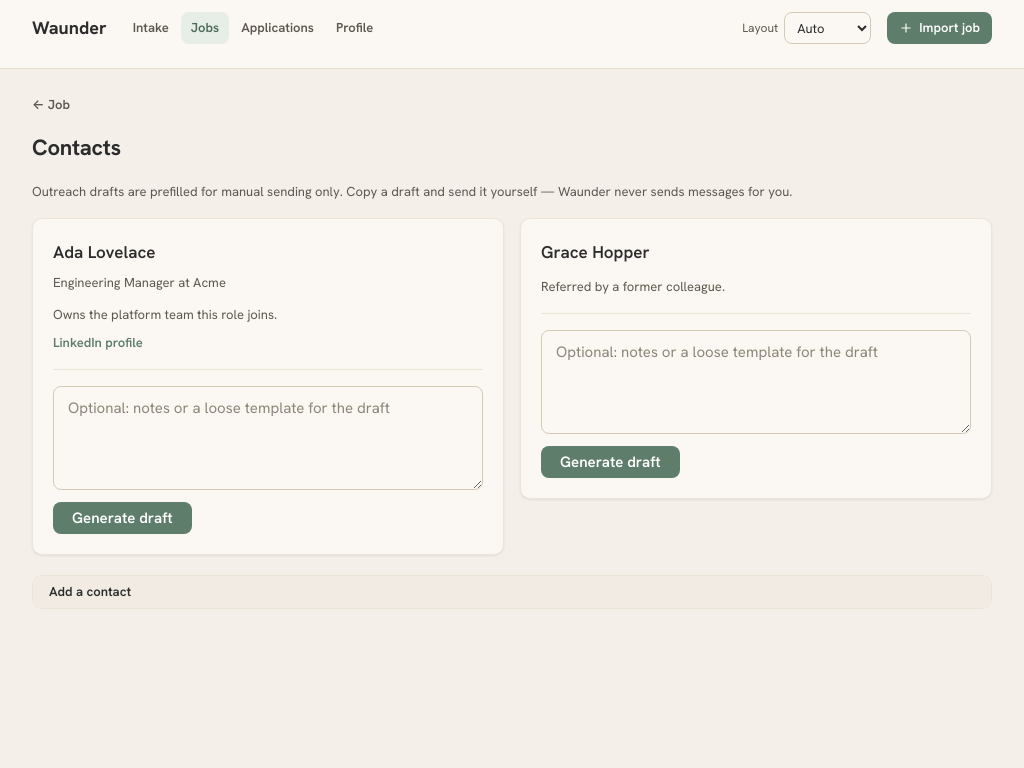
Scenario: outreach generation › reports an expired session as one
Expected: the element with class "contact-create" is shown, [32,575,992,609]
Click the button with class "contact-outreach-generate" below "Ada Lovelace" at [122, 518], box [53,502,192,534]
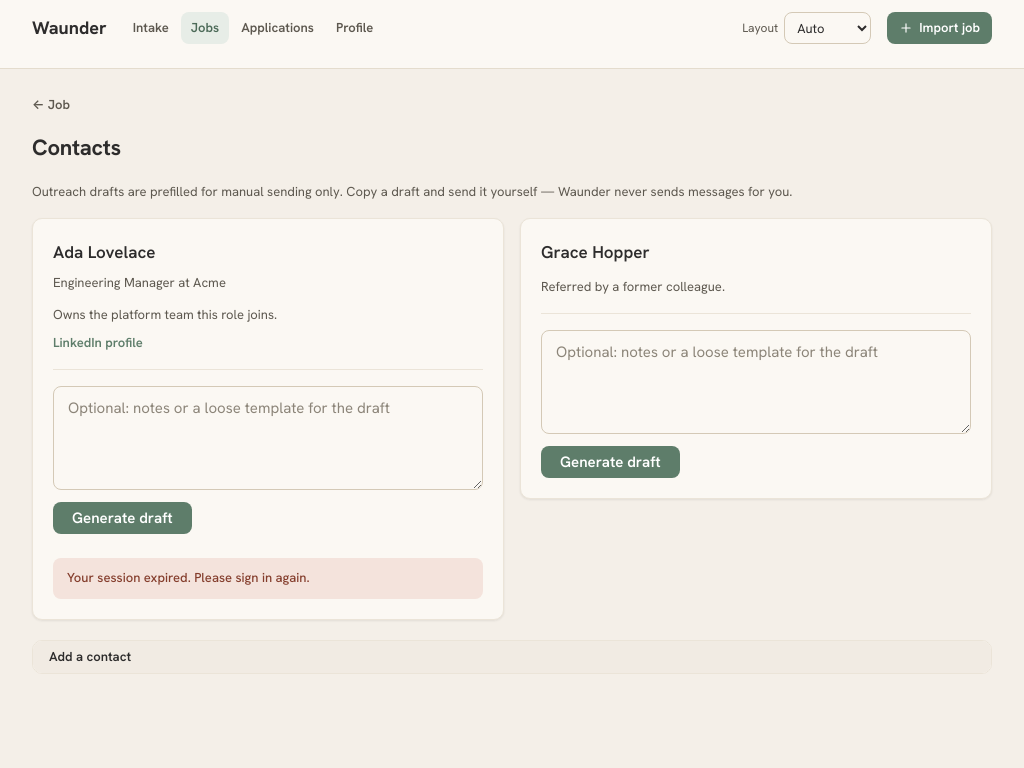
Expected: the message with class "contact-outreach-error" reads "Your session expired. Please sign in again.", [67,569,310,586]
